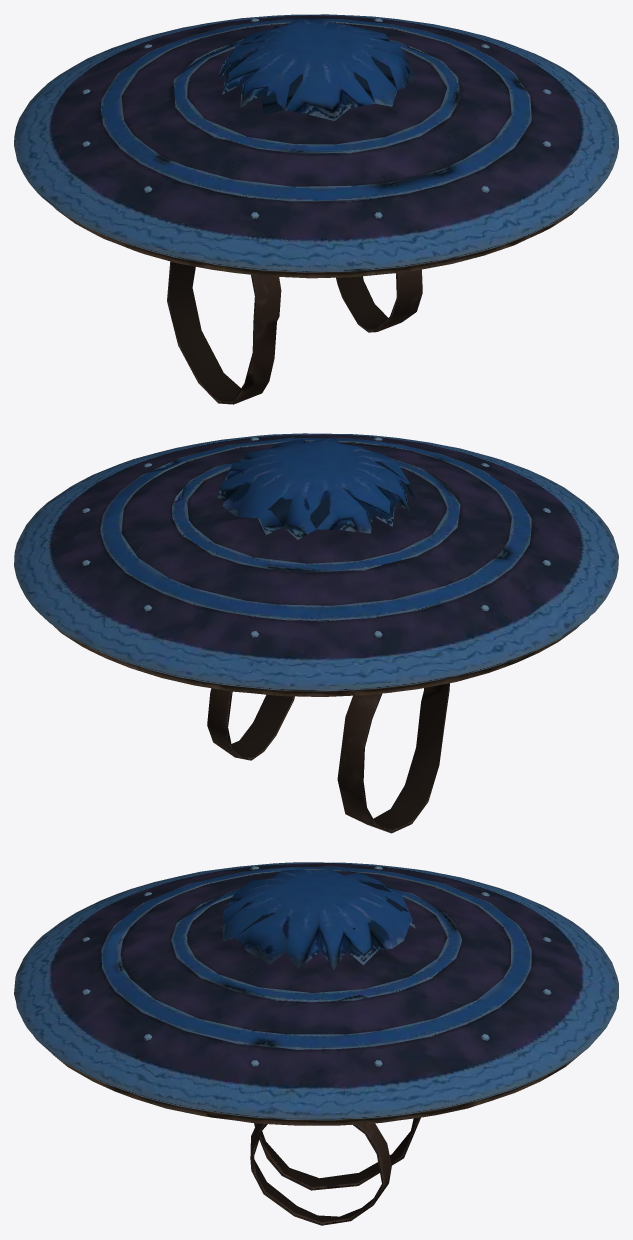
The model's file is shield_abyssal.glb.
3 views of the same model, one above another, from view 1: azimuth 30°, elevation 25°; view 2: azimuth 150°, elevation 25°; view 3: azimuth 270°, elevation 25° (orthographic).
Parts seen in each view (by area): view 1: shield; view 2: shield; view 3: shield.
Part boxes in pixels (x1,y1,x2,y2): shield: [14, 14, 618, 404]; shield: [14, 433, 618, 833]; shield: [14, 862, 618, 1225].
Size of the model in its own units: 0.5199 by 0.3215 by 0.5199.
1 material, 1 textured.
